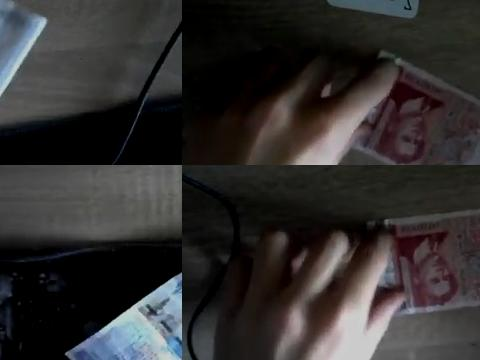20leva: (64, 268, 182, 360)
5leva: (352, 51, 480, 165), (393, 207, 480, 314)
